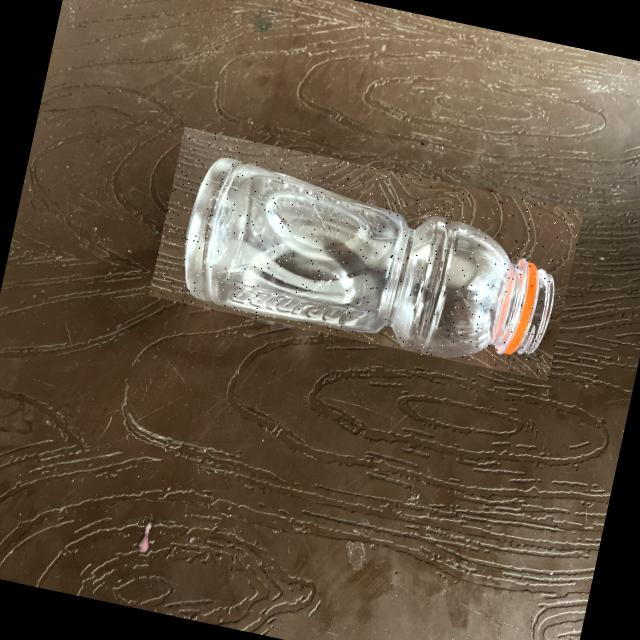PET_With_Cap: (147, 127, 582, 382)
